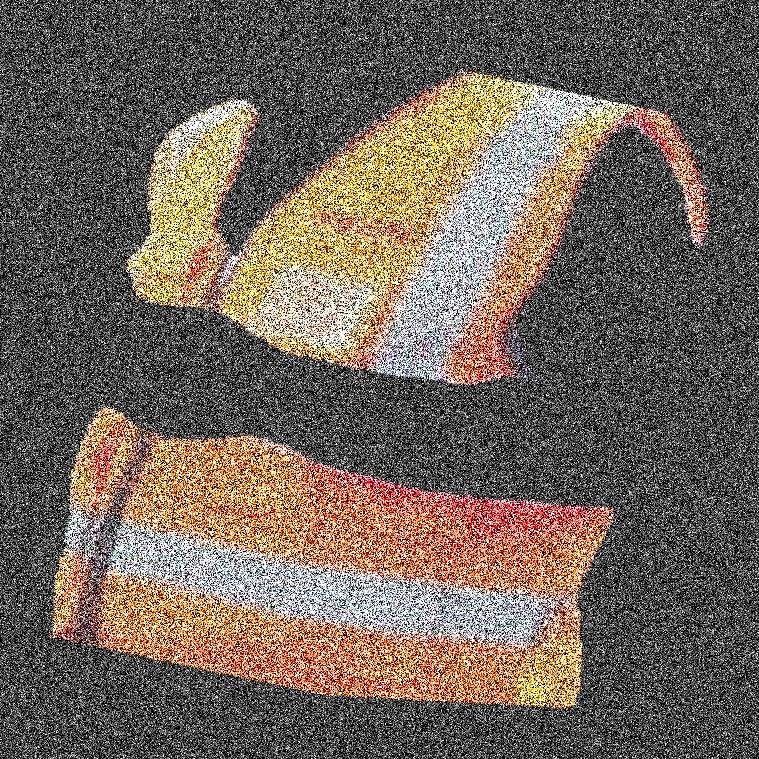Colete: (329, 0, 528, 758)
